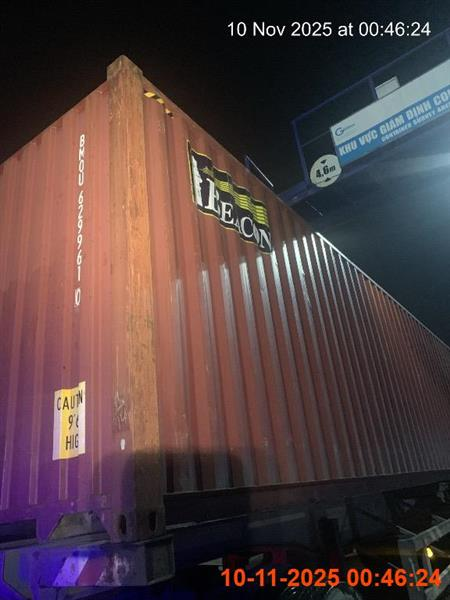broken: (0, 53, 449, 599), (1, 55, 449, 599)
